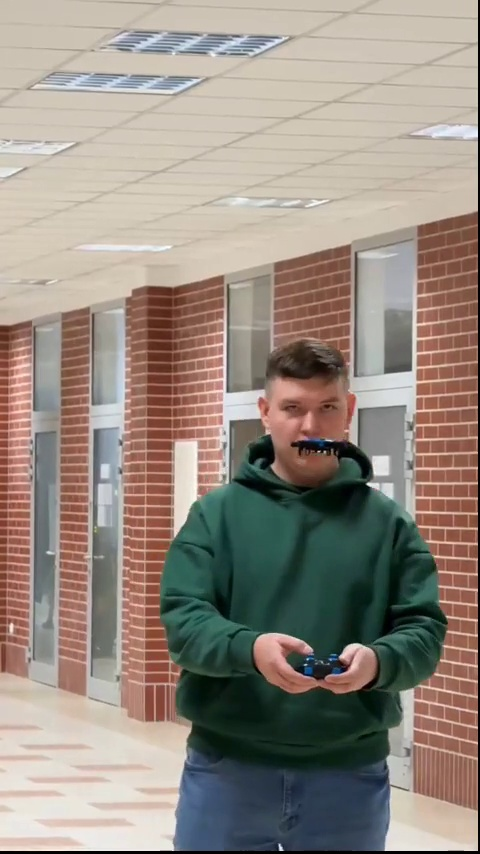drone: (292, 434, 350, 460)
no vest: (163, 335, 444, 854)
